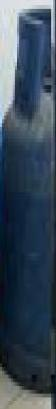cylinder: (0, 1, 56, 409)
